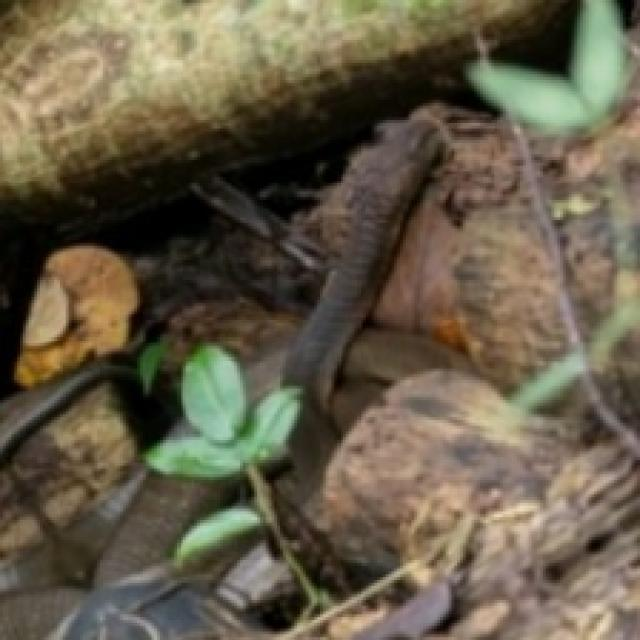king cobra: (245, 120, 469, 501), (94, 474, 228, 584)
